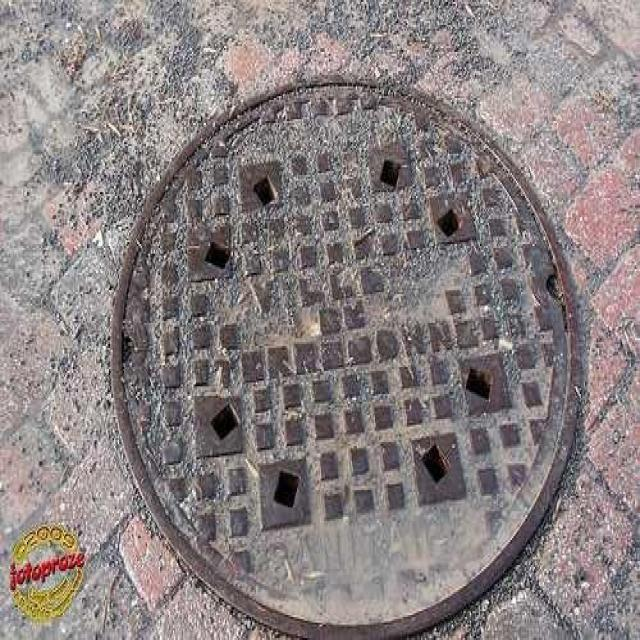manhole: (113, 83, 578, 636)
